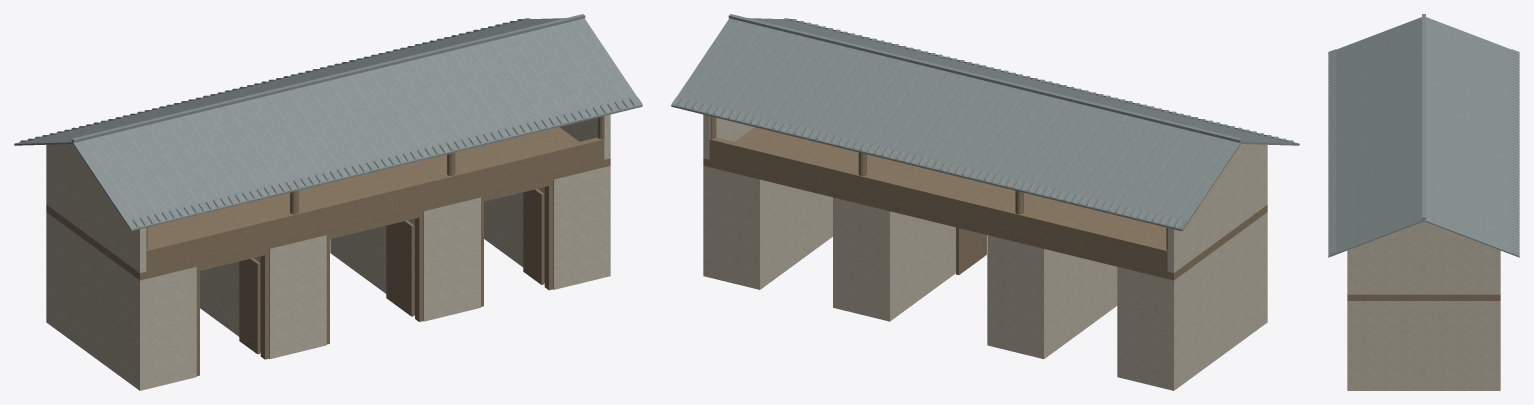
File: zhongdong-Z-LOD1.glb
3 views of the same model, side by side, from view 1: azimuth 30°, elevation 25°; view 2: azimuth 150°, elevation 25°; view 3: azimuth 270°, elevation 25° (orthographic). The views are drawn at different scales.
Parts seen in each view (by area): view 1: zhongdong-Z-static_tile, zhongdong-Z-static_earth, zhongdong-Z-static_timber; view 2: zhongdong-Z-static_tile, zhongdong-Z-static_earth, zhongdong-Z-static_timber; view 3: zhongdong-Z-static_tile, zhongdong-Z-static_earth, zhongdong-Z-static_timber.
Boxes of the visible parts, x1=… form: zhongdong-Z-static_tile: x1=14, y1=14, x2=642, y2=231; zhongdong-Z-static_earth: x1=46, y1=114, x2=610, y2=390; zhongdong-Z-static_timber: x1=46, y1=116, x2=610, y2=376; zhongdong-Z-static_tile: x1=671, y1=14, x2=1299, y2=231; zhongdong-Z-static_earth: x1=703, y1=114, x2=1267, y2=390; zhongdong-Z-static_timber: x1=703, y1=116, x2=1267, y2=280; zhongdong-Z-static_tile: x1=1328, y1=14, x2=1519, y2=257; zhongdong-Z-static_earth: x1=1347, y1=221, x2=1500, y2=390; zhongdong-Z-static_timber: x1=1347, y1=294, x2=1500, y2=300.
Size of the model in its own units: 25.2 by 10.46 by 10.
Materials: 3 (3 with a texture image).
